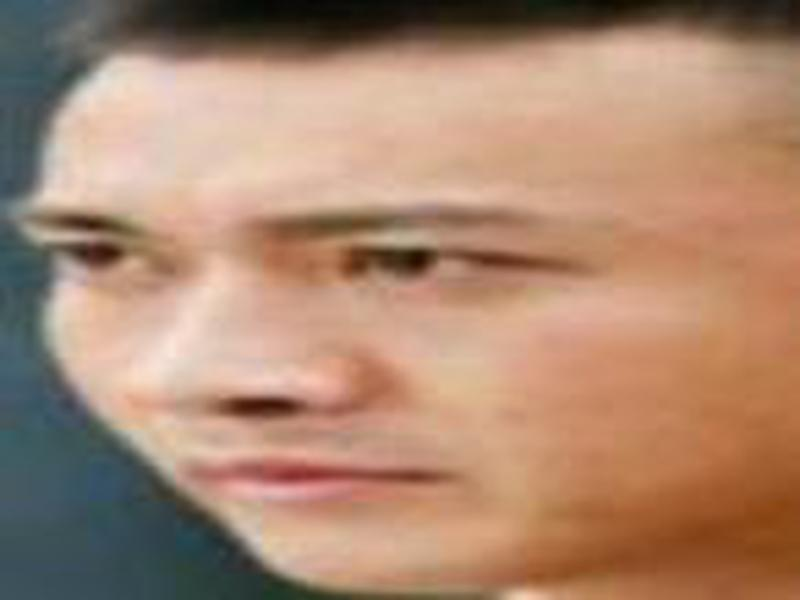without_mask: (14, 36, 733, 591)
